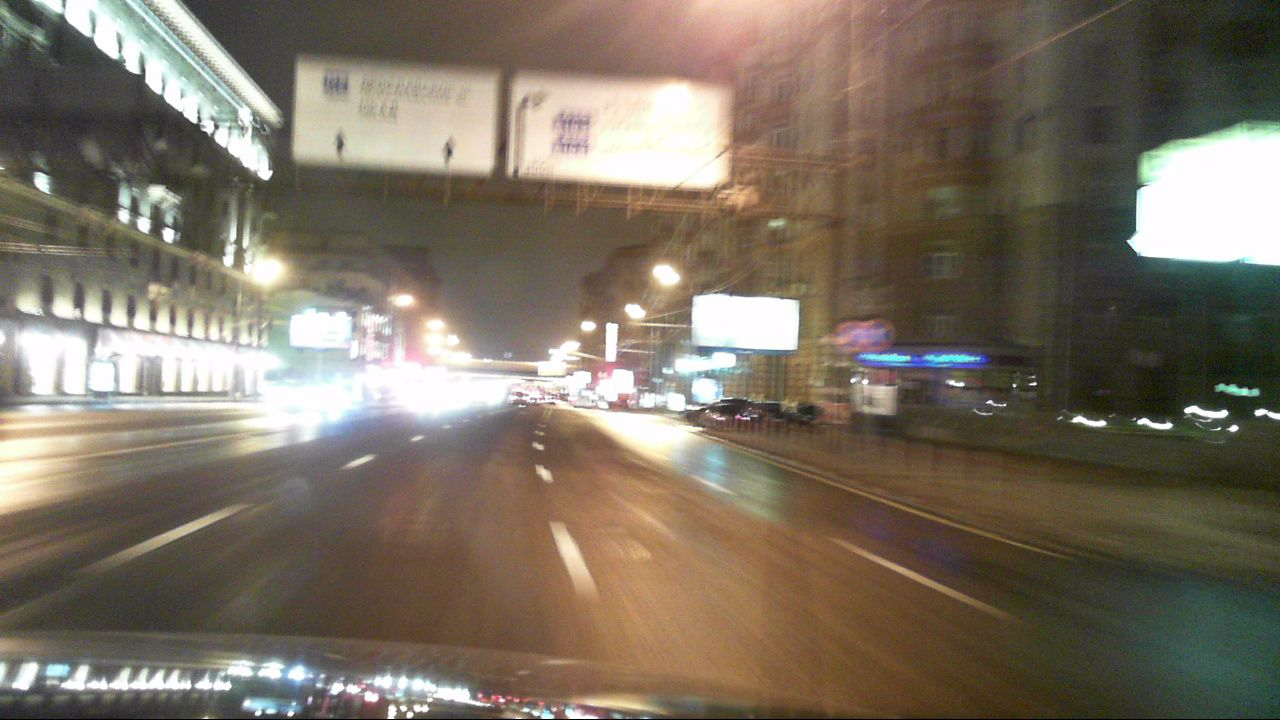No Parking: (865, 320, 894, 350)
